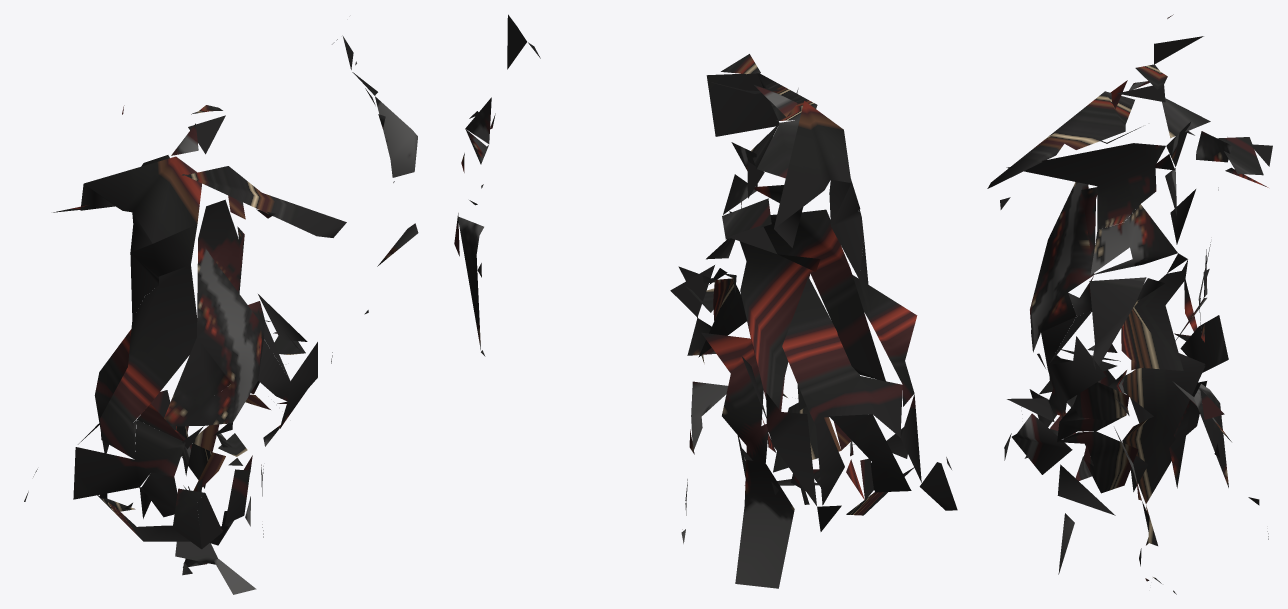
The picture shows the model from 3 angles, left to right: view 1: azimuth 30°, elevation 25°; view 2: azimuth 150°, elevation 25°; view 3: azimuth 270°, elevation 25°; orthographic projection. The views are drawn at different scales.
Visible parts, largest first — view 1: body.002; view 2: body.002; view 3: body.002.
Part boxes in pixels (x1=…): body.002: x1=24, y1=35, x2=418, y2=594; body.002: x1=454, y1=14, x2=957, y2=588; body.002: x1=987, y1=14, x2=1272, y2=594.
Bounding box in the file's own units: 1.83 × 2 × 0.9506.
Materials: 1 (1 with a texture image).
